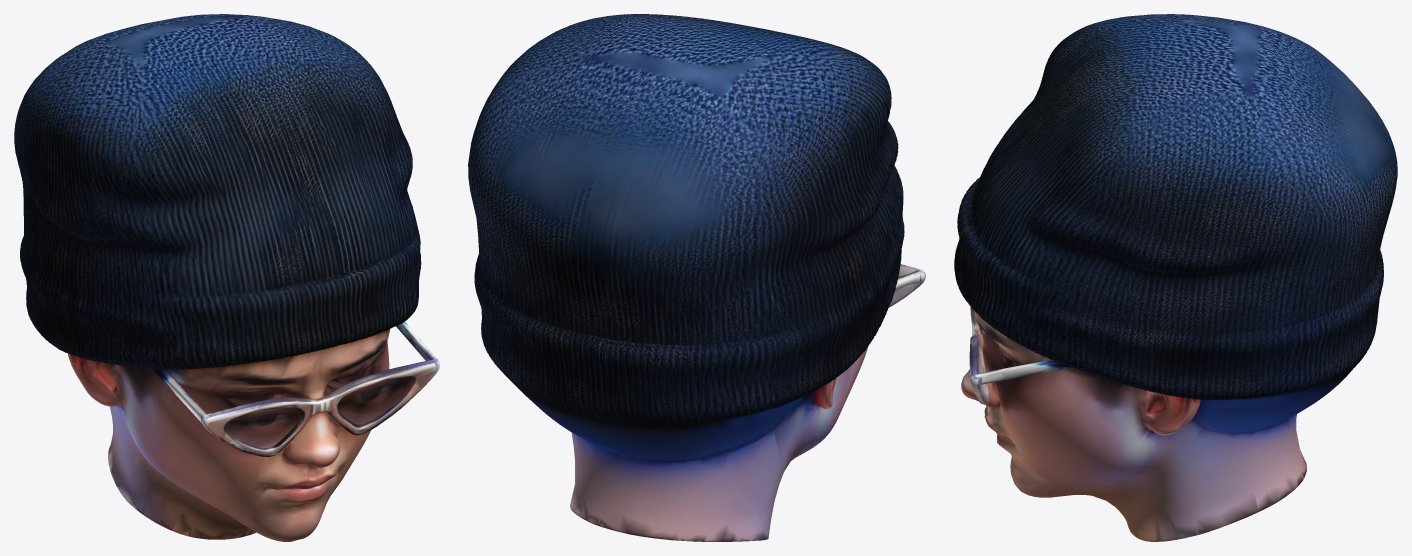
The model's file is avatar.glb.
3 renders of one model, left to right at view 1: azimuth 30°, elevation 25°; view 2: azimuth 150°, elevation 25°; view 3: azimuth 270°, elevation 25°, orthographic. The views are drawn at different scales.
Parts seen in each view (by area): view 1: node_0; view 2: node_0; view 3: node_0.
Part boxes in pixels (x1=…): node_0: x1=14, y1=14, x2=439, y2=541; node_0: x1=468, y1=14, x2=925, y2=541; node_0: x1=954, y1=14, x2=1397, y2=541.
Bounding box in the file's own units: 0.8206 × 1.11 × 0.9524.
Materials: 1 (1 with a texture image).
